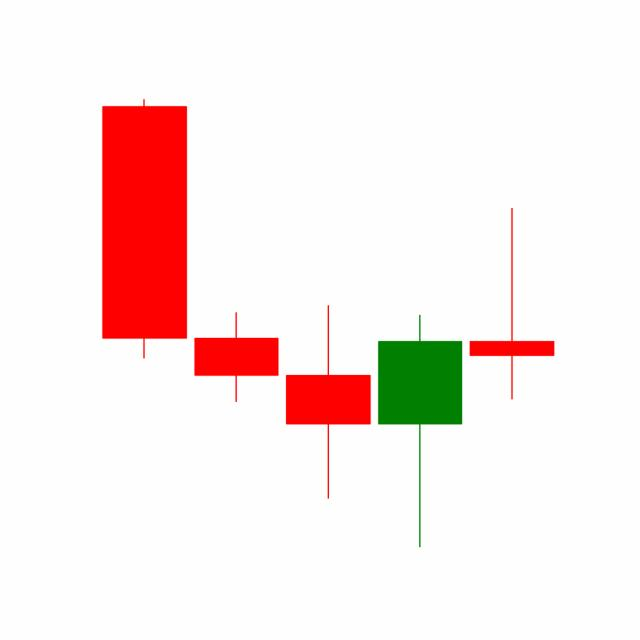Spinning Top: (464, 205, 558, 401)
